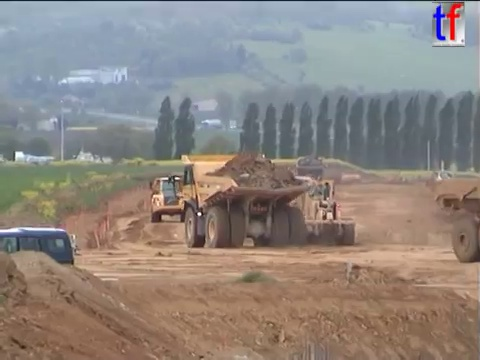motor grader: (274, 173, 356, 247)
truck: (166, 152, 313, 250), (1, 224, 79, 298), (422, 173, 480, 264), (148, 173, 193, 223), (293, 153, 325, 180)
